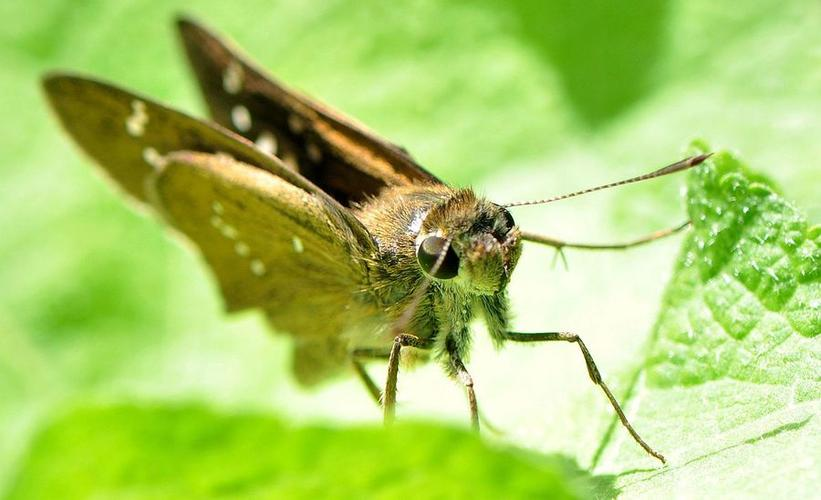Hesperiidae: (39, 9, 707, 461)
